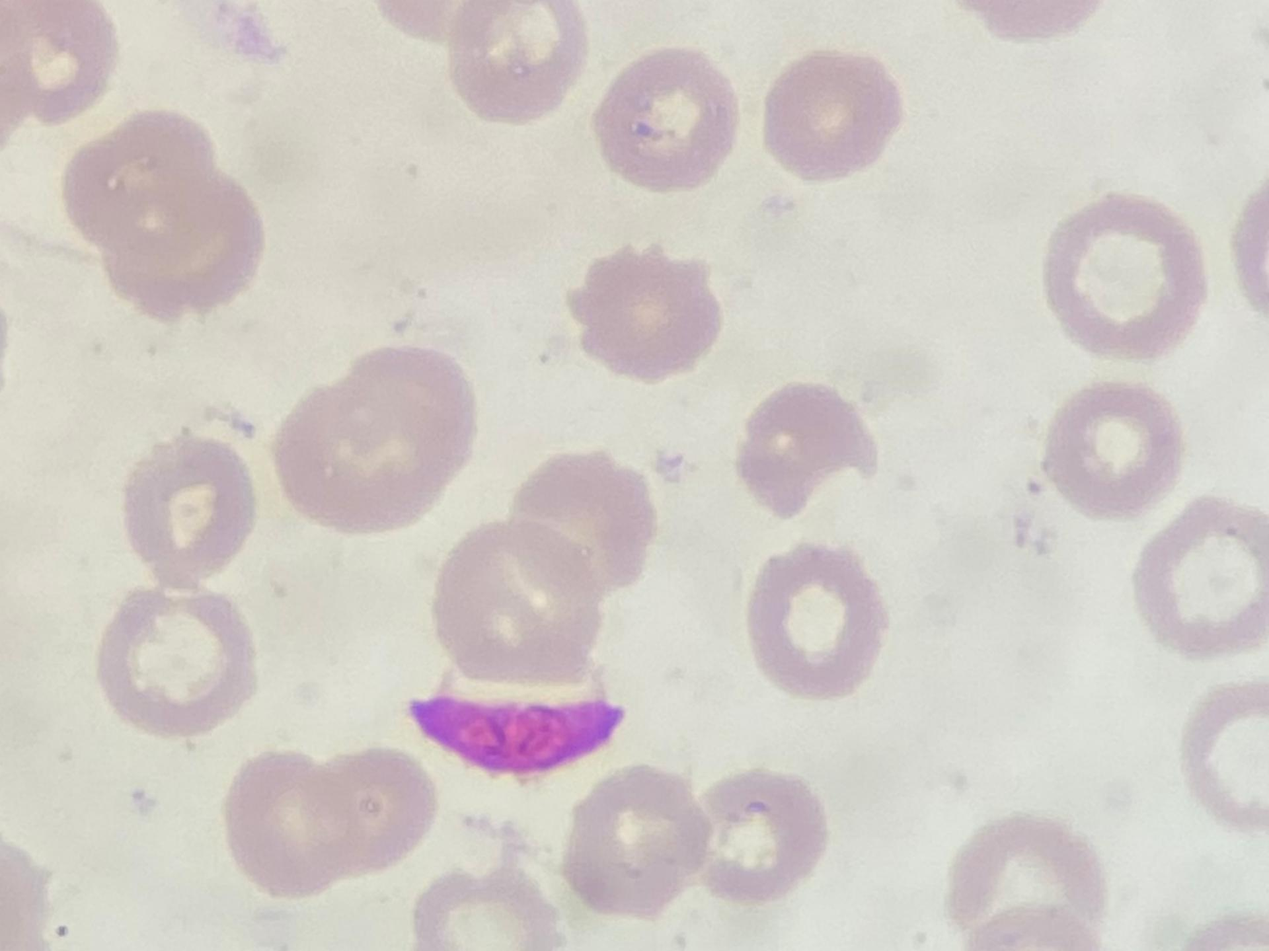Infected: (405, 671, 623, 776)
Uninfected: (430, 516, 597, 689), (274, 379, 455, 534), (1048, 195, 1208, 361), (102, 162, 266, 319), (502, 446, 654, 603), (96, 589, 256, 736), (1129, 499, 1269, 660), (64, 106, 217, 249), (563, 245, 723, 381), (562, 767, 703, 920), (593, 52, 742, 196), (750, 542, 883, 701), (1044, 380, 1188, 524), (945, 813, 1102, 944), (122, 432, 258, 579), (220, 754, 354, 901), (691, 767, 826, 909), (734, 385, 878, 517), (762, 47, 898, 181), (449, 0, 588, 126), (344, 344, 475, 477), (304, 749, 443, 874), (1180, 676, 1269, 838), (0, 0, 114, 125), (413, 866, 563, 951)
